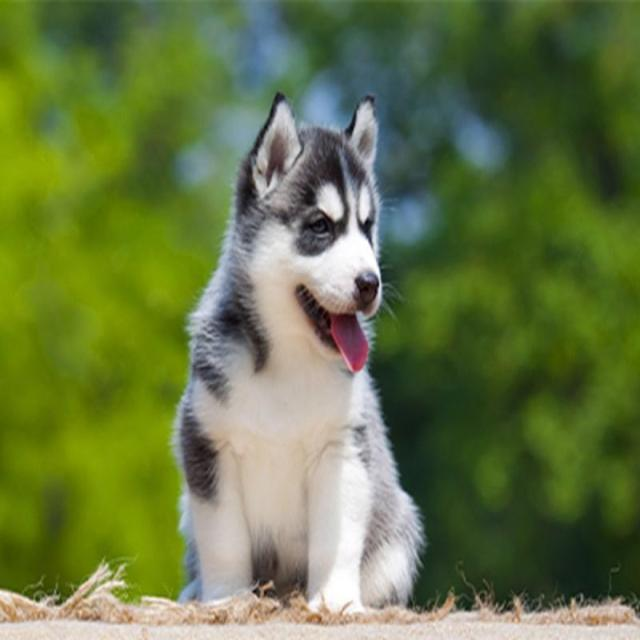Dog: (233, 82, 387, 382)
